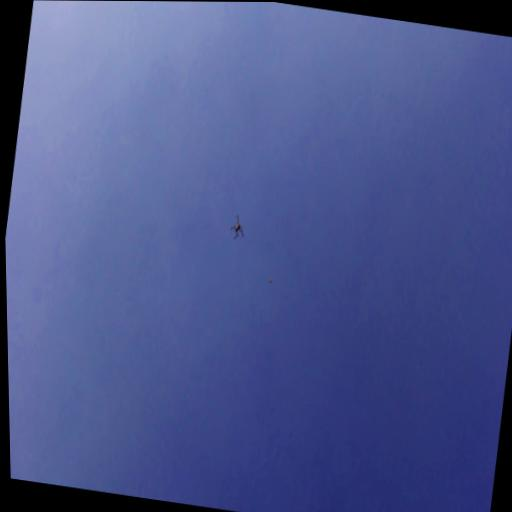drones: (227, 212, 248, 246)
